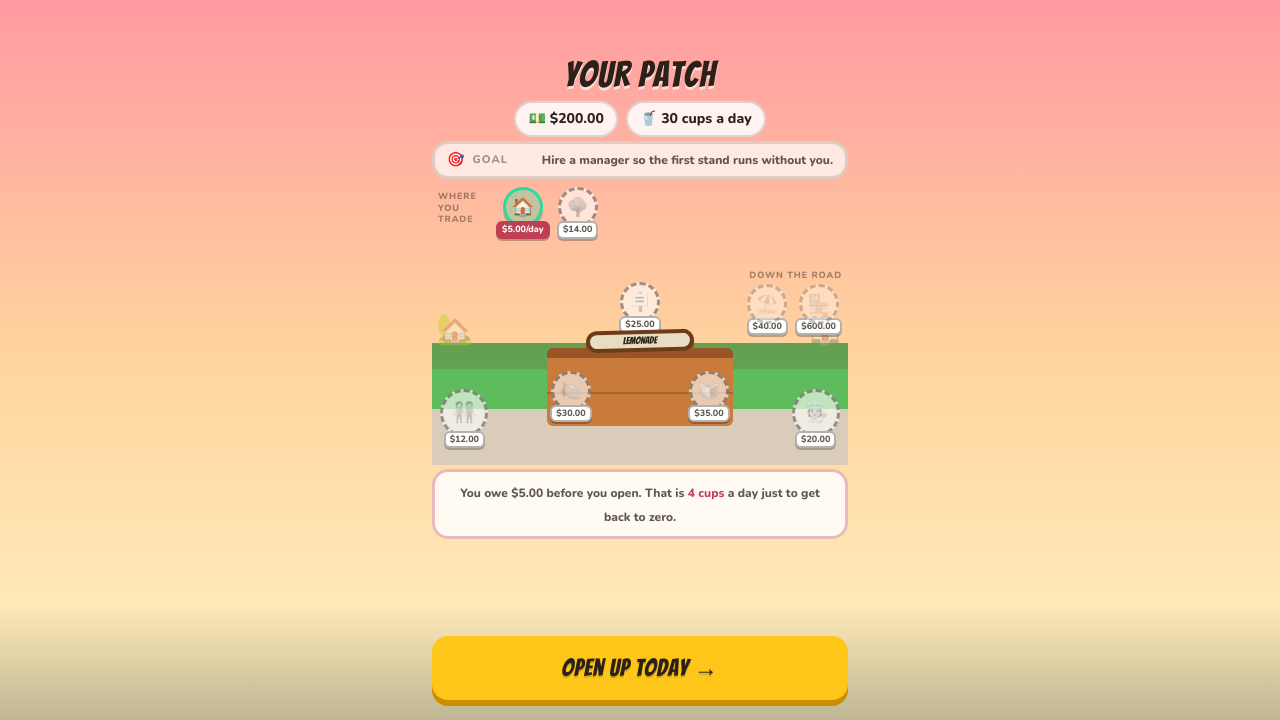
it: buying something in Act 2 › prices a wage in cups, which is the only unit a kid can judge
The image size is (1280, 720).
Click the button named "Helper, $12.00 a day" at coordinates (464, 418), box [440,389,488,448]
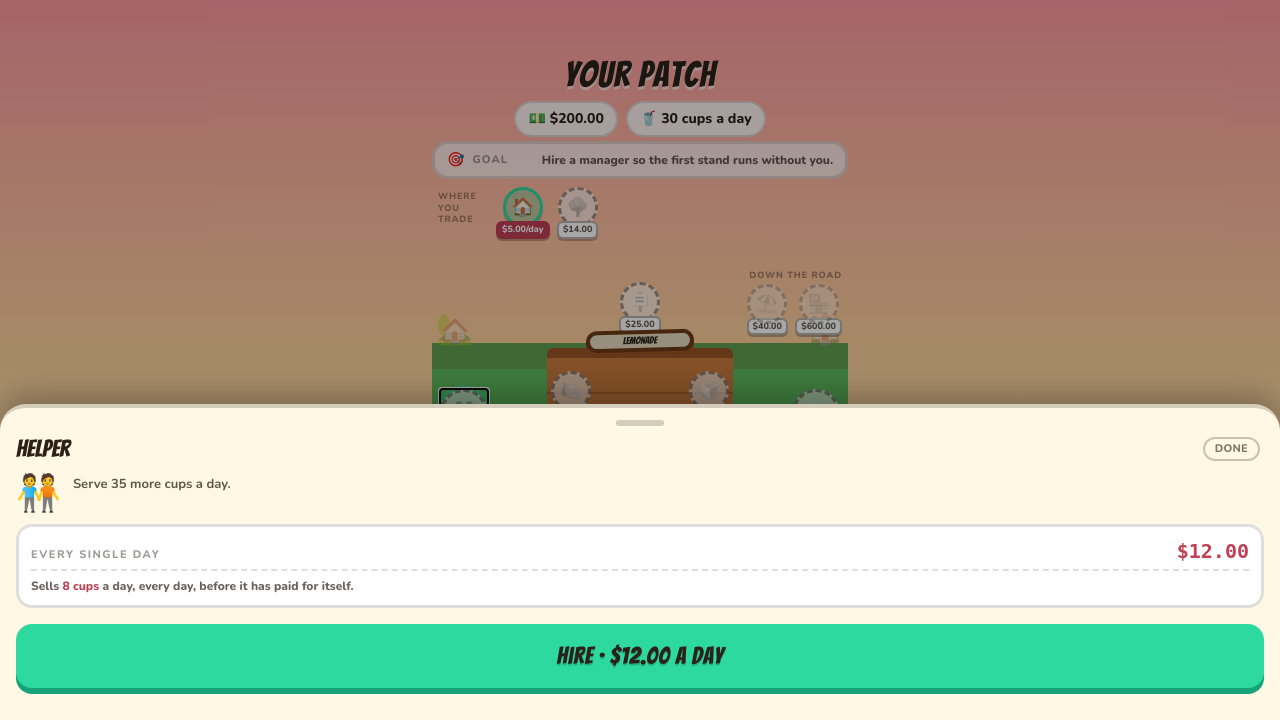
Result: the text "8 cups" is shown at [62,578,99,594]
Result: the text "every day, before it has paid for itself" is shown at [99,578,354,594]
